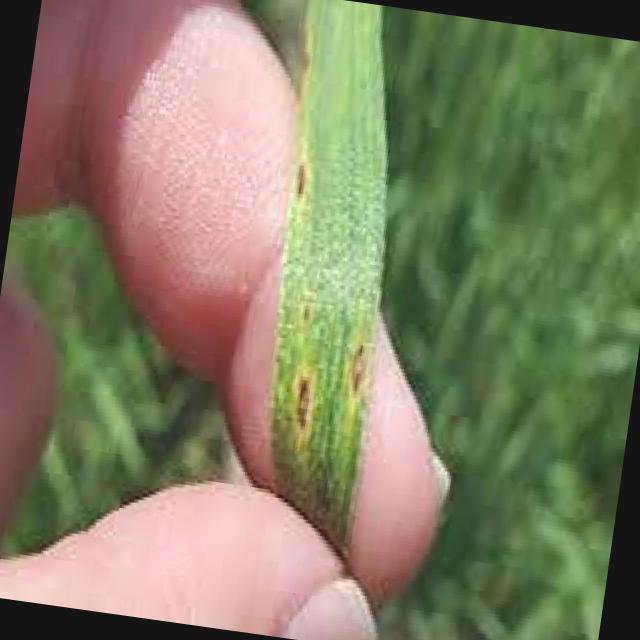leaf_blight: (269, 0, 384, 550)
